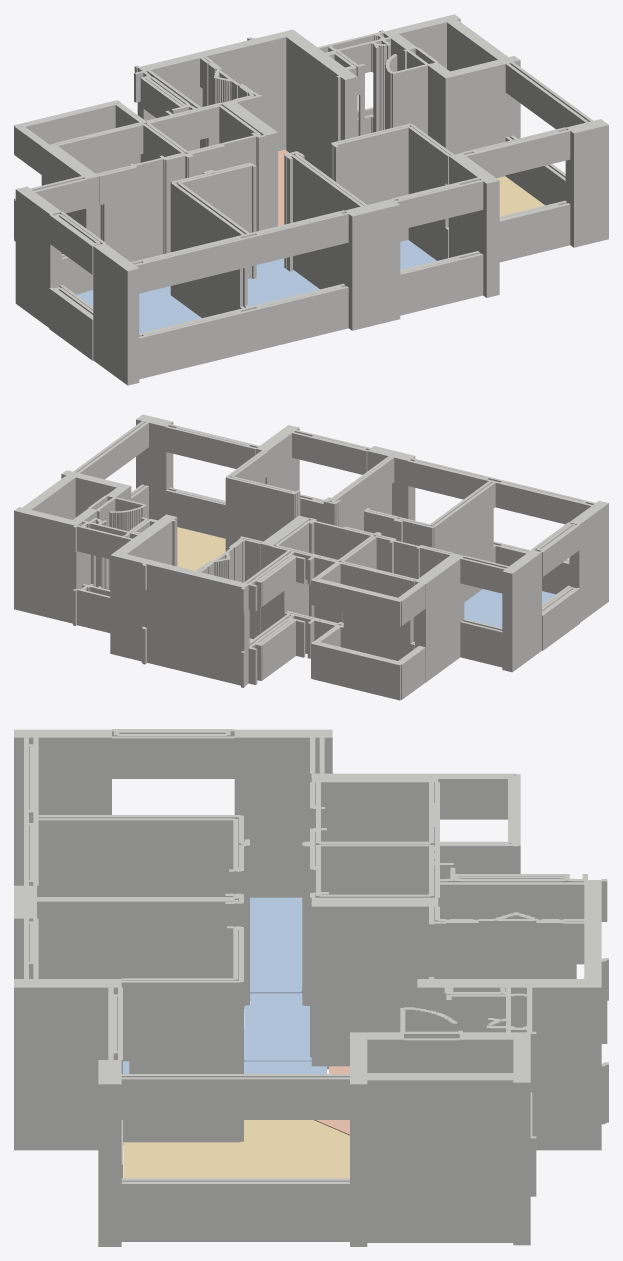
3 renders of one model, top to bottom at view 1: azimuth 30°, elevation 25°; view 2: azimuth 150°, elevation 25°; view 3: azimuth 270°, elevation 25°, orthographic. The views are drawn at different scales.
Visible parts, largest first — view 1: walls, room:bedroom:1, room:bedroom:3, room:living:6, room:bedroom:2, room:kitchen:0; view 2: walls, room:living:6, room:bedroom:3; view 3: walls, room:living:6, room:bedroom:3, room:bedroom:1, room:bedroom:2.
Boxes of the visible parts, x1,y1,x2,y2 form: walls: (14,14,608,385); room:bedroom:1: (247,258,319,306); room:bedroom:3: (76,286,201,333); room:living:6: (497,176,544,216); room:bedroom:2: (400,240,436,269); room:kitchen:0: (278,149,288,225); walls: (14,414,608,700); room:living:6: (177,527,225,570); room:bedroom:3: (464,589,555,627); walls: (14,729,608,1246); room:living:6: (123,1120,349,1178); room:bedroom:3: (250,897,302,994); room:bedroom:1: (244,993,311,1061); room:bedroom:2: (123,1061,326,1073).
Bounding box in the file's own units: 13.12 × 2.8 × 9.28.
